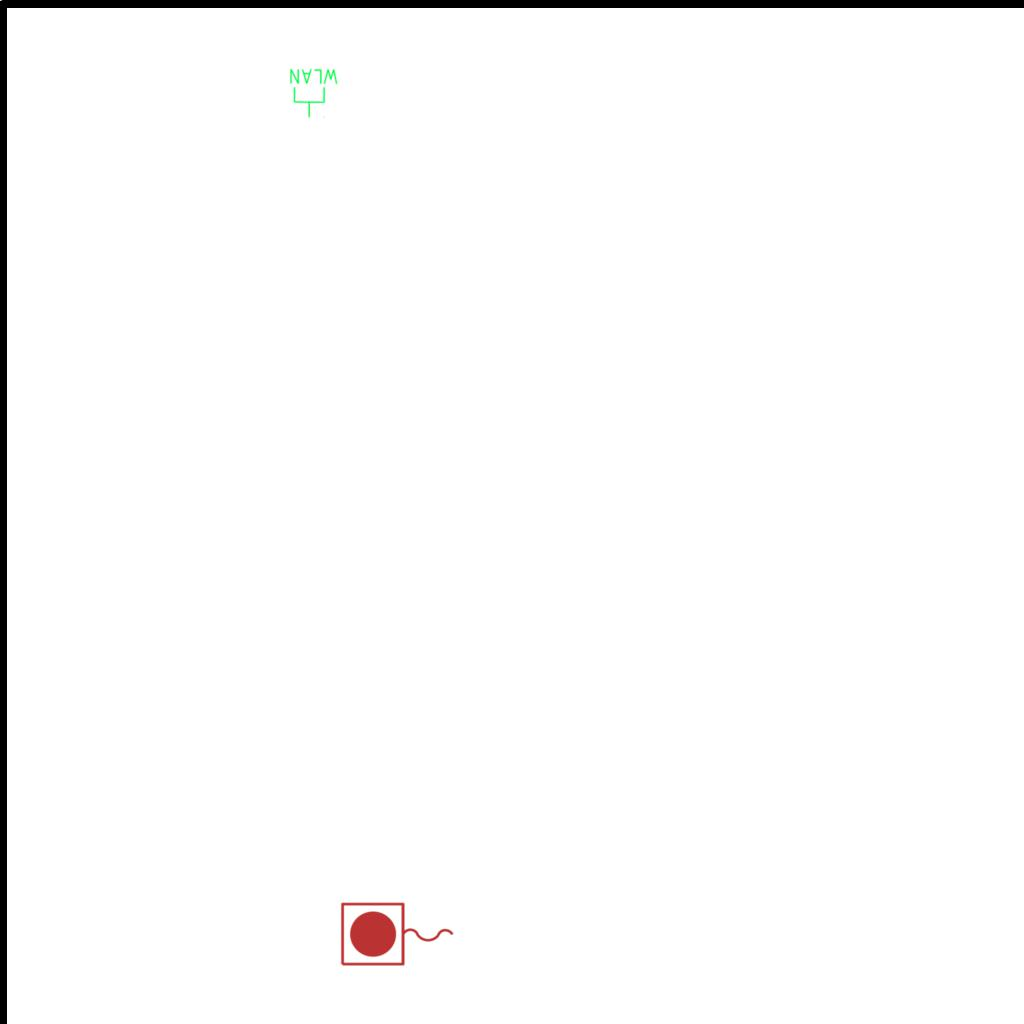WLAN: (288, 67, 340, 119)
Zugtaster: (337, 899, 459, 971)
